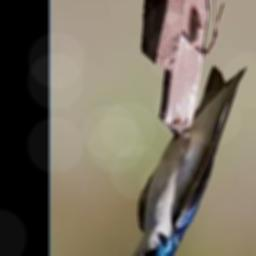Swallow: (121, 64, 249, 256)
